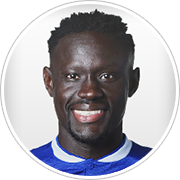smile: (71, 102, 109, 124)
